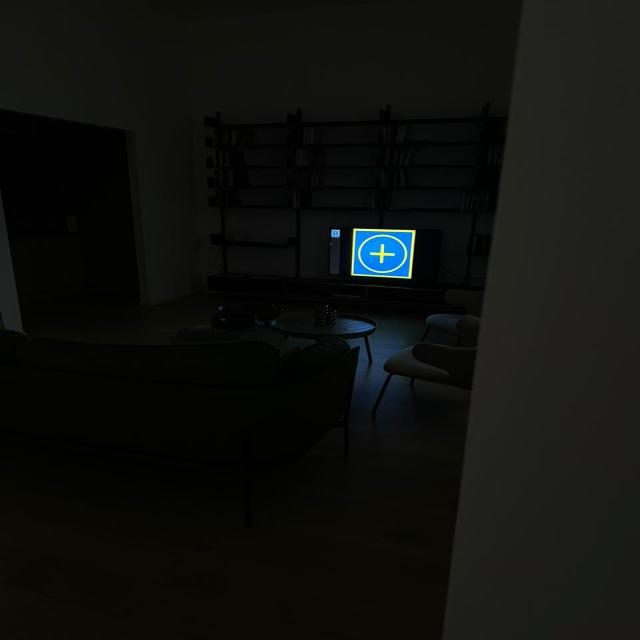Marker: (351, 228, 415, 279)
